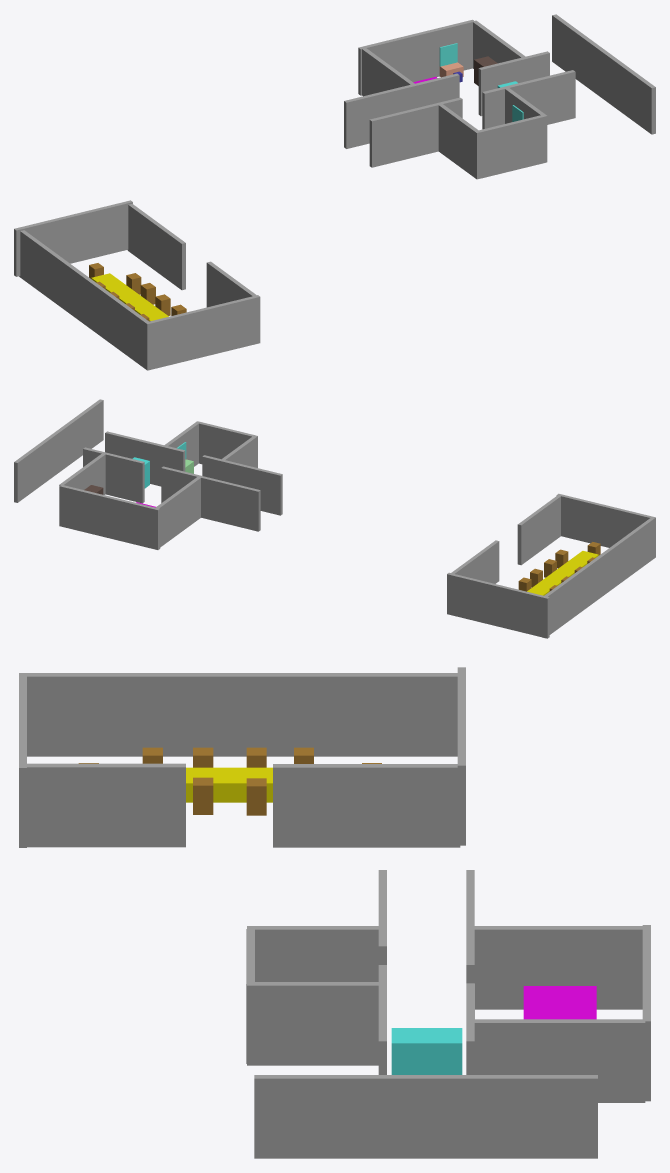
Rendered from Blockout_Sergio.fbx.
3 views of the same model, one above another, from view 1: azimuth 30°, elevation 25°; view 2: azimuth 150°, elevation 25°; view 3: azimuth 270°, elevation 25° (orthographic). The views are drawn at different scales.
Visible parts, largest first — view 1: wall5, wall2, wall21, wall3, wall7, wall12, wall18, wall1, wall16, wall17, wall19, wall11 (+8 smaller); view 2: wall5, wall3, wall7, wall21, wall2, wall17, wall4, wall9, wall16, wall10, wall19, wall12 (+10 smaller); view 3: wall5, wall21, wall1, wall4, wall9, wall13, wall8, wall11, Box, bed1, table, wall3 (+5 smaller).
Part boxes in pixels (x1=…): wall5: x1=19, y1=230, x2=150, y2=370; wall2: x1=149, y1=295, x2=260, y2=370; wall21: x1=552, y1=14, x2=655, y2=134; wall3: x1=14, y1=200, x2=132, y2=276; wall7: x1=358, y1=19, x2=474, y2=95; wall12: x1=478, y1=115, x2=545, y2=178; wall18: x1=369, y1=103, x2=439, y2=167; wall1: x1=127, y1=203, x2=185, y2=290; wall16: x1=373, y1=104, x2=439, y2=166; wall17: x1=344, y1=84, x2=413, y2=148; wall19: x1=504, y1=70, x2=575, y2=124; wall11: x1=438, y1=103, x2=480, y2=179; wall5: x1=542, y1=516, x2=655, y2=637; wall3: x1=447, y1=572, x2=549, y2=638; wall7: x1=59, y1=485, x2=160, y2=549; wall21: x1=14, y1=399, x2=103, y2=502; wall2: x1=556, y1=493, x2=651, y2=547; wall17: x1=200, y1=476, x2=260, y2=531; wall4: x1=517, y1=494, x2=561, y2=565; wall9: x1=155, y1=477, x2=200, y2=547; wall16: x1=222, y1=460, x2=280, y2=515; wall10: x1=104, y1=452, x2=142, y2=503; wall19: x1=105, y1=431, x2=165, y2=486; wall12: x1=197, y1=421, x2=254, y2=464; wall5: x1=19, y1=673, x2=457, y2=756; wall21: x1=254, y1=1075, x2=597, y2=1158; wall1: x1=273, y1=764, x2=460, y2=847; wall4: x1=21, y1=763, x2=185, y2=847; wall9: x1=474, y1=926, x2=645, y2=1009; wall13: x1=247, y1=982, x2=381, y2=1065; wall8: x1=474, y1=1019, x2=645, y2=1102; wall11: x1=247, y1=926, x2=378, y2=981; Box: x1=391, y1=1028, x2=462, y2=1074; bed1: x1=523, y1=986, x2=596, y2=1019; table: x1=186, y1=767, x2=272, y2=802; wall3: x1=457, y1=667, x2=465, y2=845.
Size of the model in its own units: 26.23 by 4 by 14.35.
